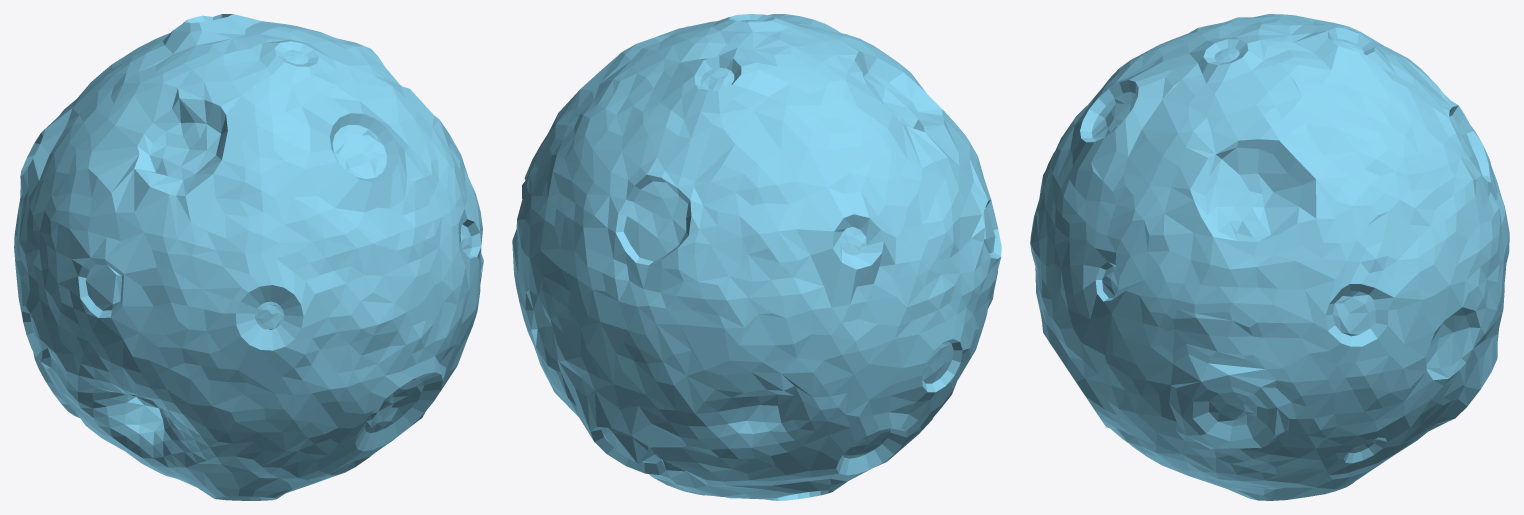
File: Planet_32.glb
The picture shows the model from 3 angles, left to right: view 1: azimuth 30°, elevation 25°; view 2: azimuth 150°, elevation 25°; view 3: azimuth 270°, elevation 25°; orthographic projection. The views are drawn at different scales.
Parts seen in each view (by area): view 1: Planet_32; view 2: Planet_32; view 3: Planet_32.
Part boxes in pixels (x1,y1,x2,y2): Planet_32: [14, 14, 483, 500]; Planet_32: [512, 14, 1001, 500]; Planet_32: [1030, 14, 1509, 500].
Bounding box in the file's own units: 20.29 × 20.59 × 20.2.
Materials: 1 (1 with a texture image).
